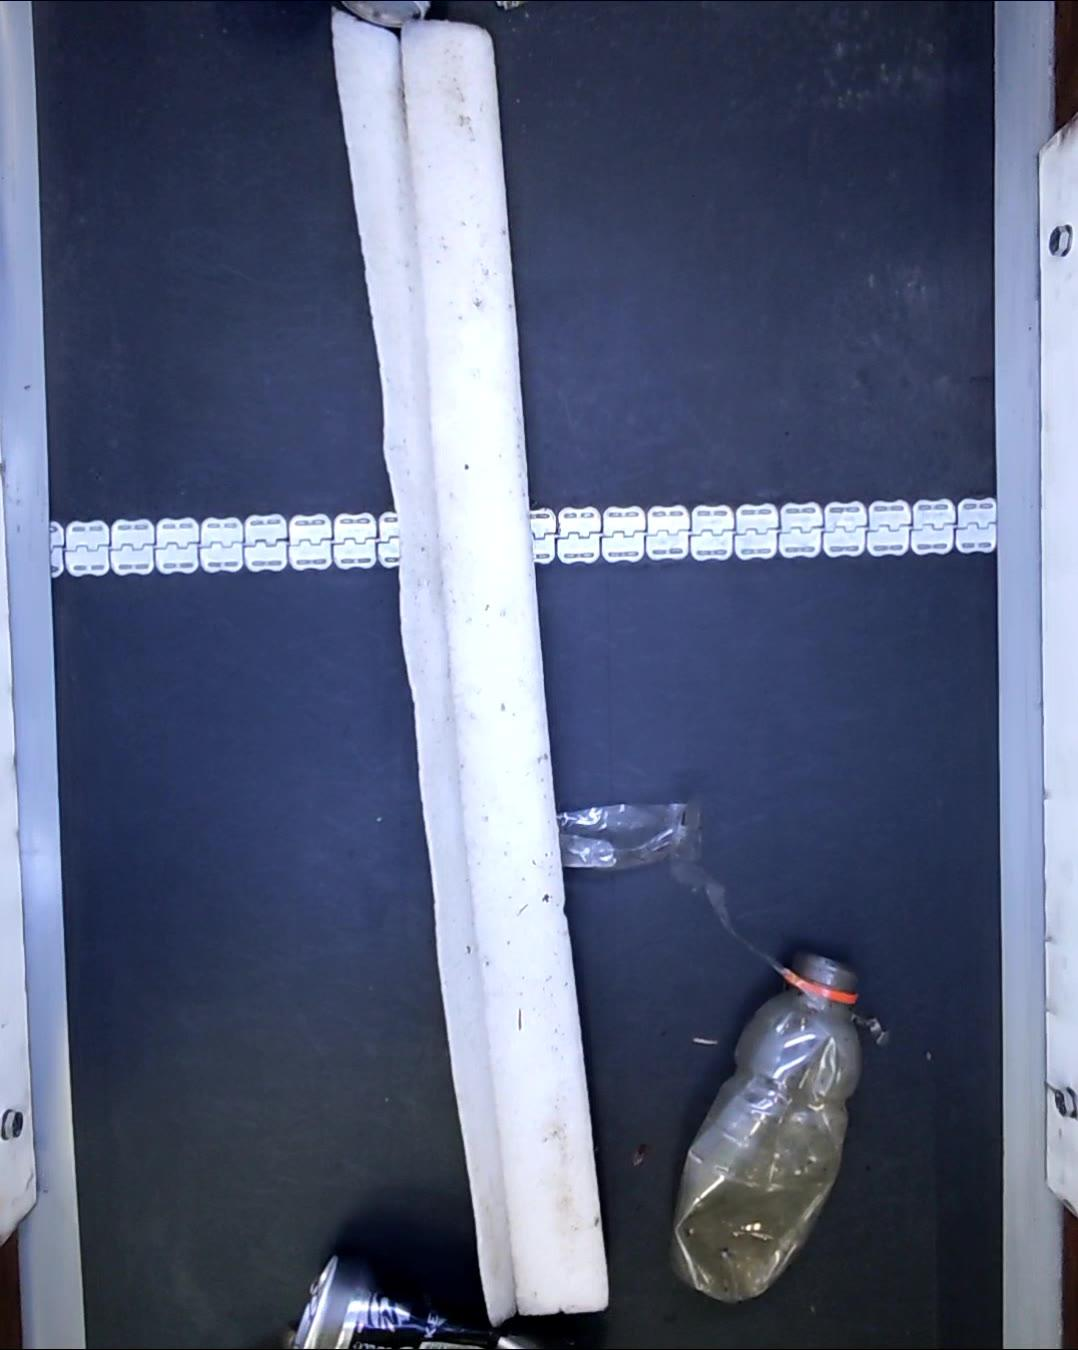Drankblikjes: (295, 1256, 548, 1350)
Drankflessen - 1-2 liter: (674, 957, 868, 1303)
Plastic folies of stukken daarvan 2.5- 50 cm: (557, 798, 789, 977)
